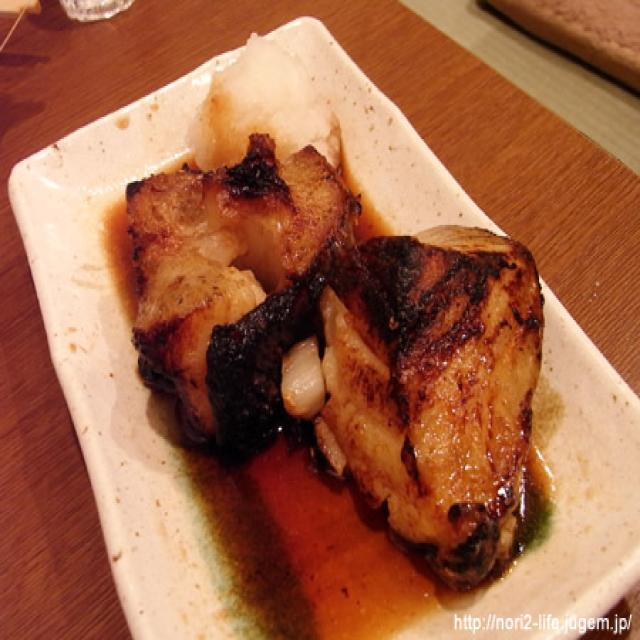熟制海鲜: (102, 150, 552, 587)
